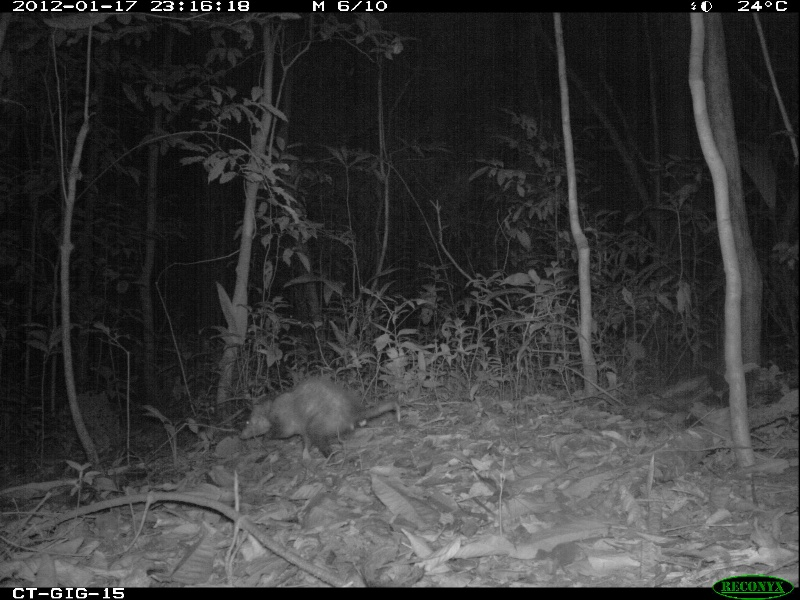opossum: (240, 379, 408, 467)
